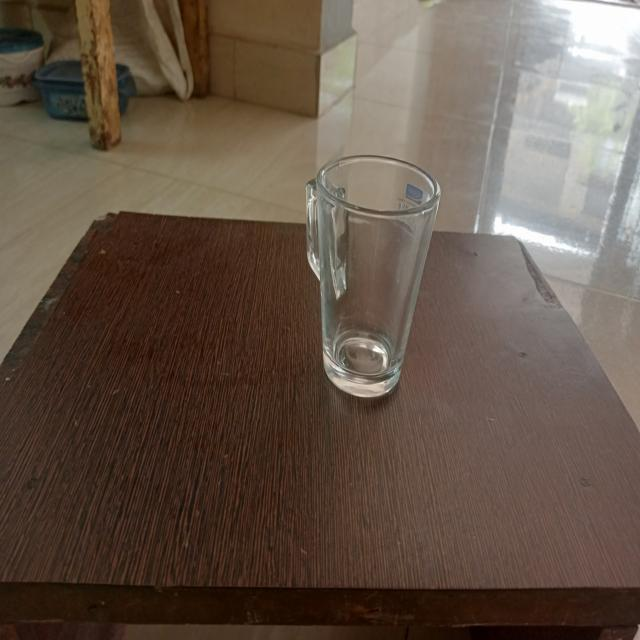glass-VX4N: (297, 142, 444, 408)
